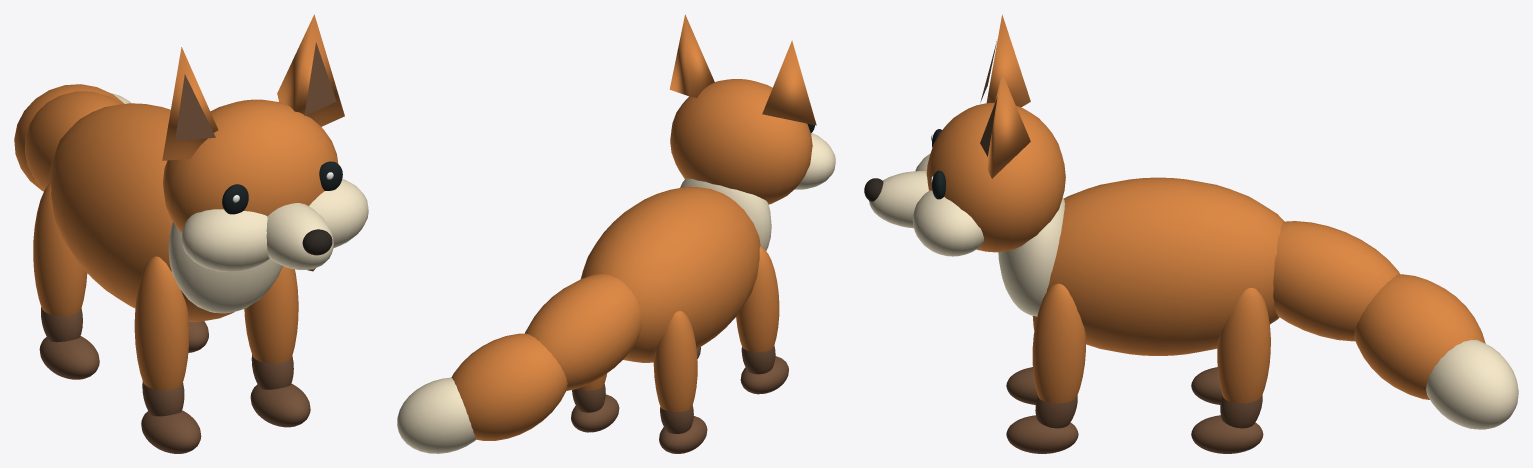
File: vos_staand.glb
3 renders of one model, left to right at view 1: azimuth 30°, elevation 25°; view 2: azimuth 150°, elevation 25°; view 3: azimuth 270°, elevation 25°, orthographic. The views are drawn at different scales.
Parts seen in each view (by area): view 1: Fox_body, Fox_head, Fox_leg, Fox_white_cheek, White_fox_bib, Fox_leg.001, Fox_leg.002, Fox_bushy_tail, Fox_tapered_muzzle, Fox_pointed_ear.001, Fox_white_cheek.001, Fox_pointed_ear (+13 smaller); view 2: Fox_body, Fox_head, Fox_tail_sweep, Fox_bushy_tail, Fox_white_tail_tip, Fox_leg.001, Fox_leg, Fox_pointed_ear, Fox_pointed_ear.001, White_fox_bib, Fox_white_cheek, Fox_paw.003 (+5 smaller); view 3: Fox_body, Fox_head, Fox_bushy_tail, Fox_tail_sweep, Fox_white_tail_tip, Fox_leg.002, Fox_leg.003, White_fox_bib, Fox_white_cheek.001, Fox_pointed_ear.001, Fox_tapered_muzzle, Fox_paw.002 (+6 smaller).
Boxes of the visible parts, left/top/right/bottom form: Fox_body: left=48, top=103, right=234, bottom=322; Fox_head: left=163, top=99, right=338, bottom=232; Fox_leg: left=134, top=256, right=189, bottom=390; Fox_white_cheek: left=181, top=209, right=269, bottom=271; White_fox_bib: left=168, top=221, right=282, bottom=313; Fox_leg.001: left=33, top=183, right=87, bottom=315; Fox_leg.002: left=244, top=266, right=298, bottom=363; Fox_bushy_tail: left=24, top=91, right=121, bottom=190; Fox_tapered_muzzle: left=266, top=203, right=333, bottom=269; Fox_pointed_ear.001: left=277, top=14, right=344, bottom=126; Fox_white_cheek.001: left=309, top=179, right=368, bottom=248; Fox_pointed_ear: left=162, top=47, right=218, bottom=160; Fox_body: left=581, top=187, right=760, bottom=362; Fox_head: left=670, top=79, right=812, bottom=204; Fox_tail_sweep: left=451, top=333, right=567, bottom=440; Fox_bushy_tail: left=525, top=274, right=641, bottom=390; Fox_white_tail_tip: left=397, top=377, right=476, bottom=453; Fox_leg.001: left=653, top=311, right=697, bottom=411; Fox_leg: left=736, top=246, right=779, bottom=352; Fox_pointed_ear: left=762, top=40, right=816, bottom=125; Fox_pointed_ear.001: left=669, top=14, right=714, bottom=97; White_fox_bib: left=680, top=178, right=771, bottom=250; Fox_white_cheek: left=795, top=133, right=835, bottom=189; Fox_paw.003: left=571, top=394, right=619, bottom=432; Fox_body: left=1036, top=177, right=1284, bottom=355; Fox_head: left=926, top=102, right=1065, bottom=252; Fox_bushy_tail: left=1273, top=221, right=1399, bottom=341; Fox_tail_sweep: left=1354, top=274, right=1485, bottom=399; Fox_white_tail_tip: left=1426, top=340, right=1518, bottom=429; Fox_leg.002: left=1032, top=283, right=1085, bottom=403; Fox_leg.003: left=1217, top=288, right=1270, bottom=403; White_fox_bib: left=998, top=197, right=1064, bottom=316; Fox_white_cheek.001: left=912, top=190, right=983, bottom=256; Fox_pointed_ear.001: left=987, top=73, right=1030, bottom=178; Fox_tapered_muzzle: left=869, top=171, right=928, bottom=228; Fox_paw.002: left=1006, top=415, right=1078, bottom=453.
Bounding box in the file's own units: 0.6313 × 1.03 × 1.59.
